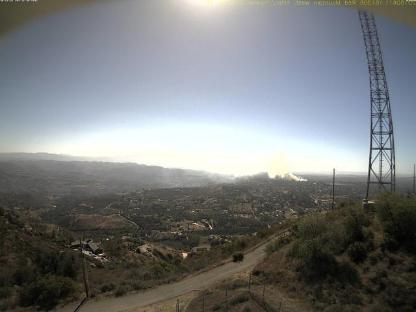smoke: (198, 166, 308, 184)
